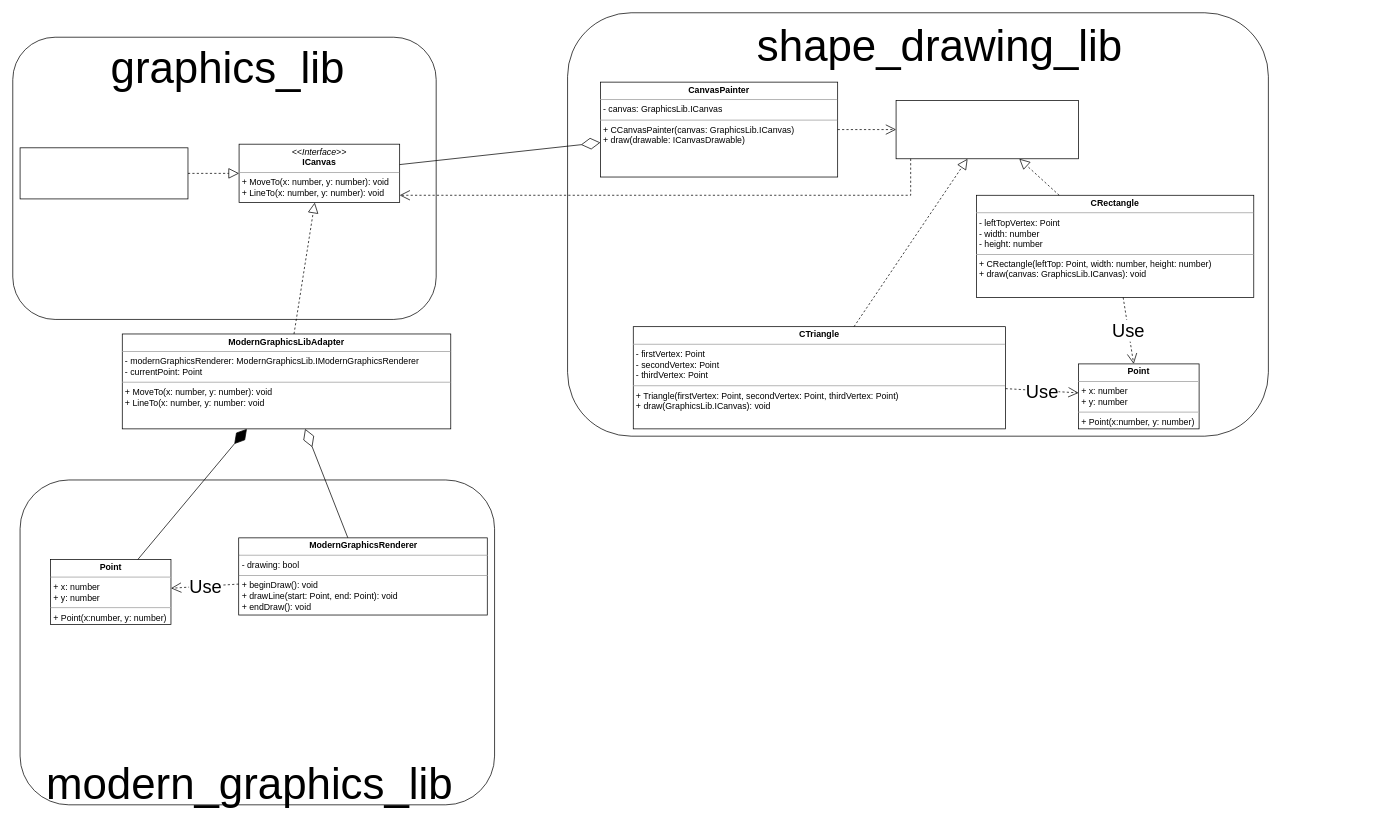
Some shapes in this 1383 by 829 pixel diagram are drawn without their labels. The shapes that lost their labels are listed below. From the top down, each one's centre as x and y in pixels, then its label:
At pixel 987 129: "<<Interface>> ICanvasDrawable draw(canvas: GraphicsLib.ICanvas): void;".
At pixel 103 173: "CCanvas + MoveTo(x: number, y: number): void + LineTo(x: number, y: number: void".
